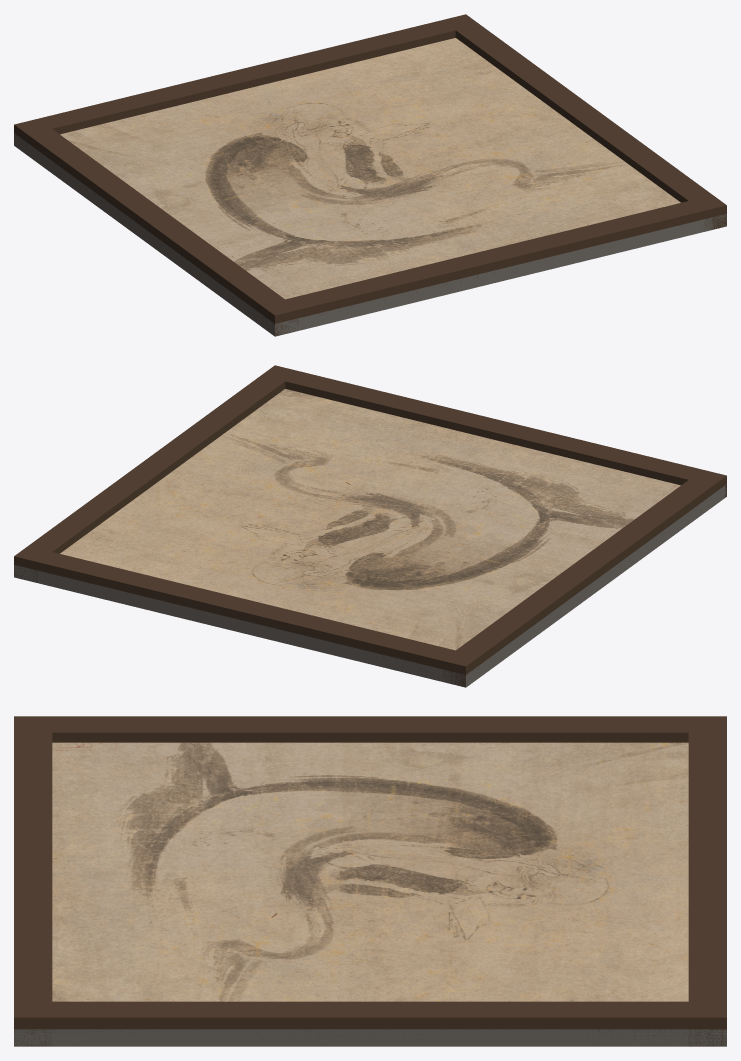
Rendered from framed_artwork.glb.
3 renders of one model, top to bottom at view 1: azimuth 30°, elevation 25°; view 2: azimuth 150°, elevation 25°; view 3: azimuth 270°, elevation 25°, orthographic. The views are drawn at different scales.
Visible parts, largest first — view 1: Artwork_Image_Front, Frame_Bottom, Back_Board, Frame_Top, Frame_Left, Frame_Right; view 2: Artwork_Image_Front, Frame_Top, Back_Board, Frame_Bottom, Frame_Left, Frame_Right; view 3: Artwork_Image_Front, Frame_Right, Frame_Left, Back_Board, Frame_Bottom, Frame_Top.
Boxes of the visible parts, x1=… form: Artwork_Image_Front: x1=60, y1=38, x2=680, y2=299; Frame_Bottom: x1=261, y1=195, x2=726, y2=328; Back_Board: x1=14, y1=133, x2=726, y2=336; Frame_Top: x1=14, y1=14, x2=479, y2=154; Frame_Left: x1=14, y1=119, x2=299, y2=336; Frame_Right: x1=443, y1=14, x2=726, y2=230; Artwork_Image_Front: x1=60, y1=389, x2=680, y2=650; Frame_Top: x1=14, y1=546, x2=479, y2=675; Back_Board: x1=14, y1=484, x2=726, y2=687; Frame_Bottom: x1=261, y1=365, x2=726, y2=497; Frame_Left: x1=441, y1=470, x2=721, y2=687; Frame_Right: x1=14, y1=369, x2=297, y2=581; Artwork_Image_Front: x1=52, y1=742, x2=688, y2=1001; Frame_Right: x1=14, y1=1001, x2=726, y2=1044; Frame_Left: x1=14, y1=716, x2=726, y2=742; Back_Board: x1=14, y1=1029, x2=726, y2=1046; Frame_Bottom: x1=14, y1=716, x2=52, y2=1046; Frame_Top: x1=688, y1=716, x2=726, y2=1046.
Size of the model in its own units: 2.24 by 0.1 by 2.24.
Materials: 3 (1 with a texture image).
